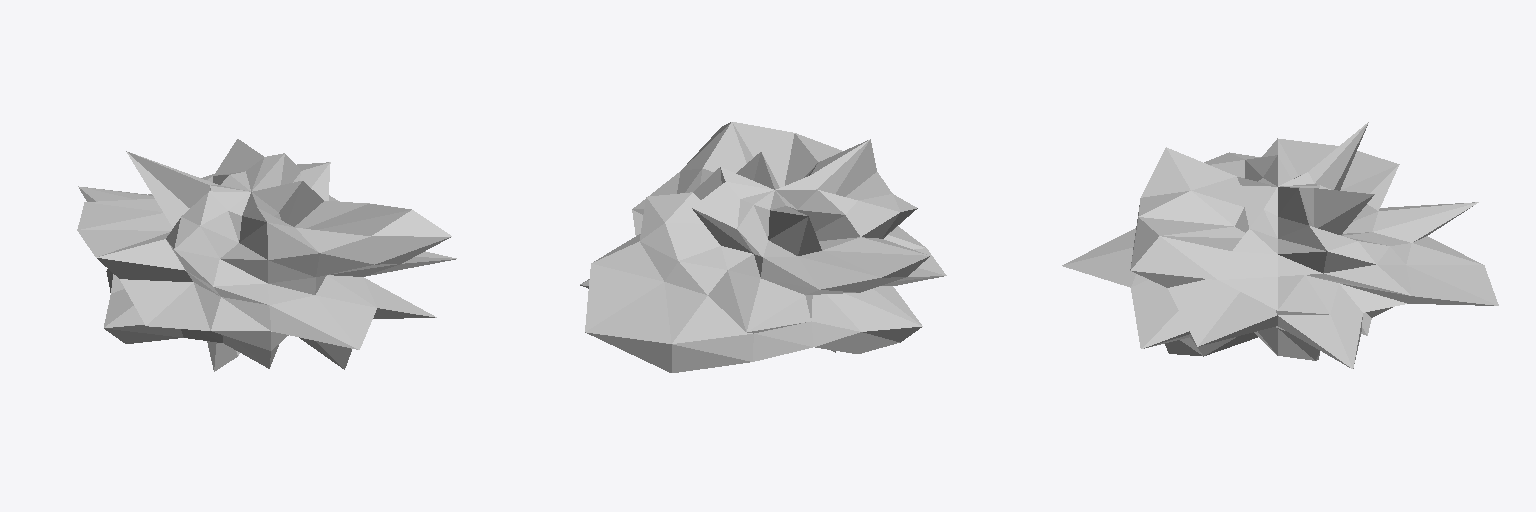
The model's file is rock2.Obj.
The picture shows the model from 3 angles: view 1: azimuth 30°, elevation 25°; view 2: azimuth 150°, elevation 25°; view 3: azimuth 270°, elevation 25°; orthographic projection.
Visible parts, largest first — view 1: default; view 2: default; view 3: default.
Boxes of the visible parts, x1,y1,x2,y2 form: default: [77, 139, 456, 371]; default: [580, 122, 946, 372]; default: [1062, 122, 1498, 368].
Bounding box in the file's own units: 1.3 × 0.7173 × 1.53.